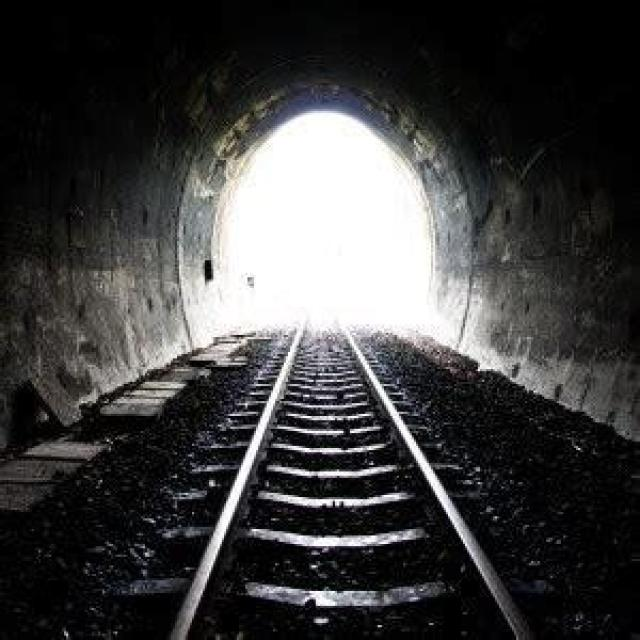rail: (120, 312, 561, 640)
